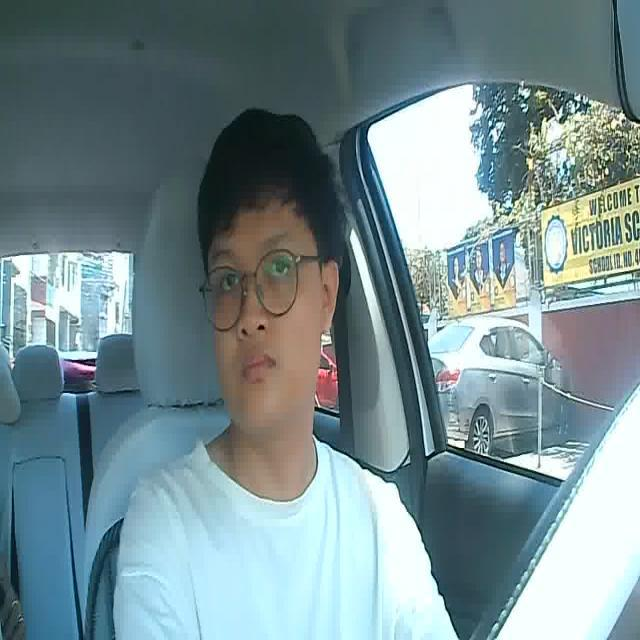Eye-Open: (268, 258, 292, 282), (222, 272, 238, 295)
Inattentive: (196, 106, 350, 430)
Normal: (243, 348, 276, 384)
